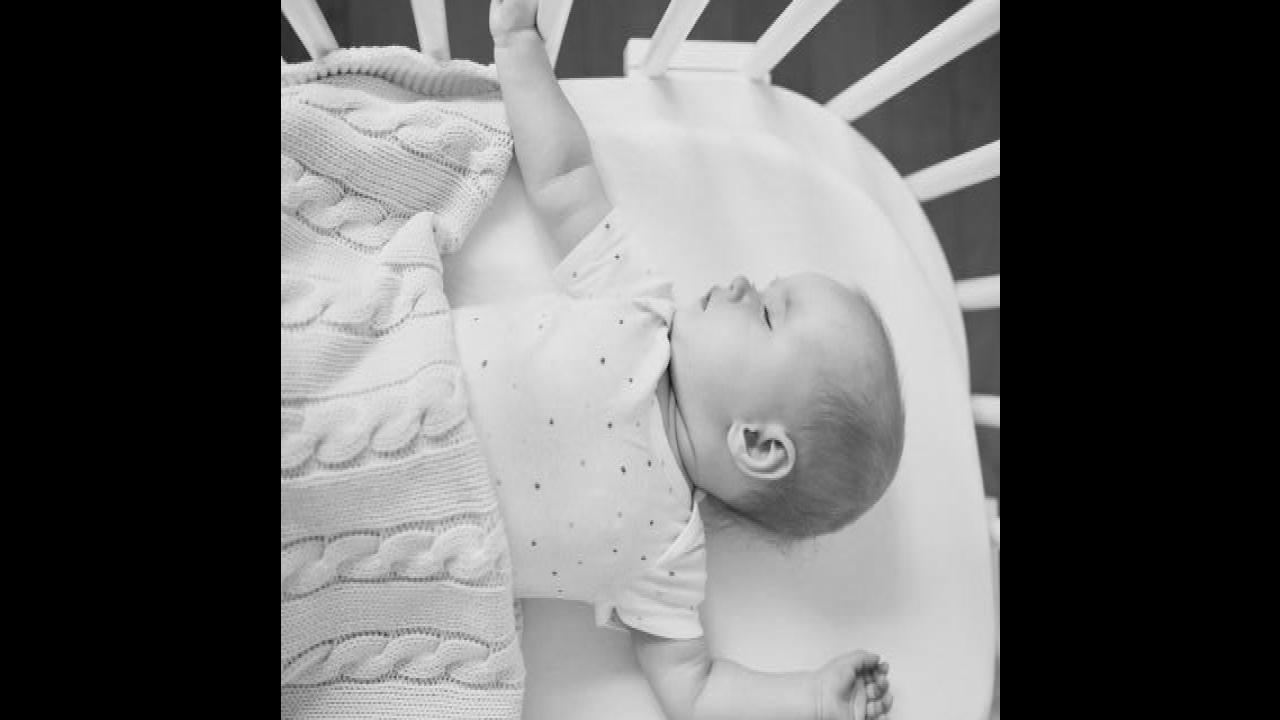hand: (822, 648, 893, 720), (473, 0, 541, 34)
